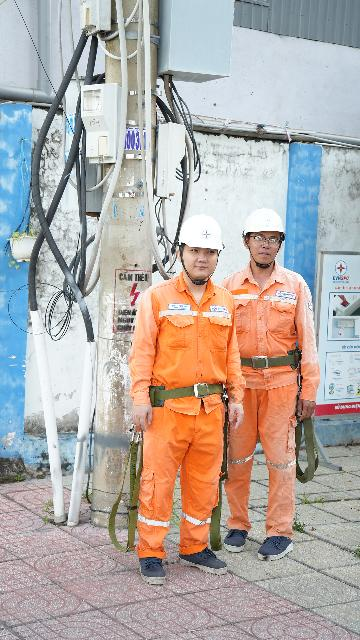harness: (142, 368, 239, 410), (222, 342, 301, 373)
helmet: (221, 207, 299, 244), (174, 211, 230, 261)
shoes: (174, 539, 232, 577), (252, 533, 299, 567), (134, 549, 170, 586), (226, 517, 253, 553)
